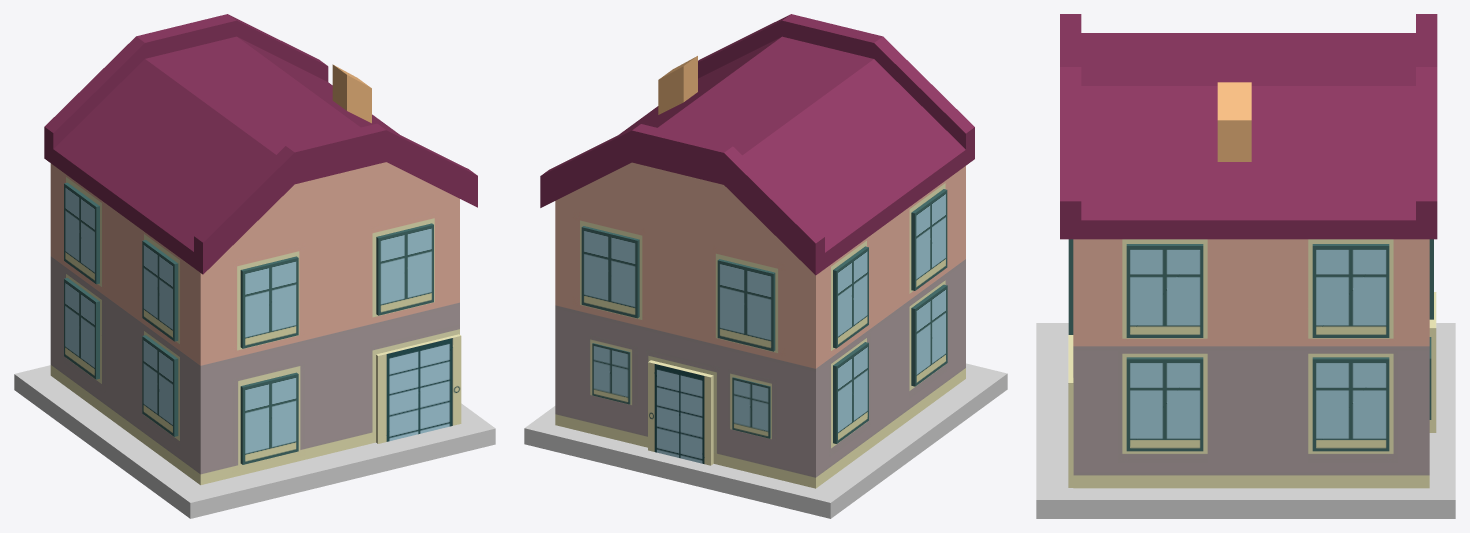
Rendered from Quad_House_3.FBX.
3 renders of one model, left to right at view 1: azimuth 30°, elevation 25°; view 2: azimuth 150°, elevation 25°; view 3: azimuth 270°, elevation 25°, orthographic. The views are drawn at different scales.
Parts seen in each view (by area): view 1: Box003, Box037; view 2: Box003, Box037; view 3: Box003, Box037.
Boxes of the visible parts, x1,y1,x2,y2 form: Box003: (44, 14, 477, 485); Box037: (14, 365, 495, 518); Box003: (540, 14, 974, 488); Box037: (524, 363, 1007, 518); Box003: (1060, 14, 1437, 488); Box037: (1036, 323, 1455, 518).
Bounding box in the file's own units: 1 × 1.04 × 1.
5 materials, 5 textured.
